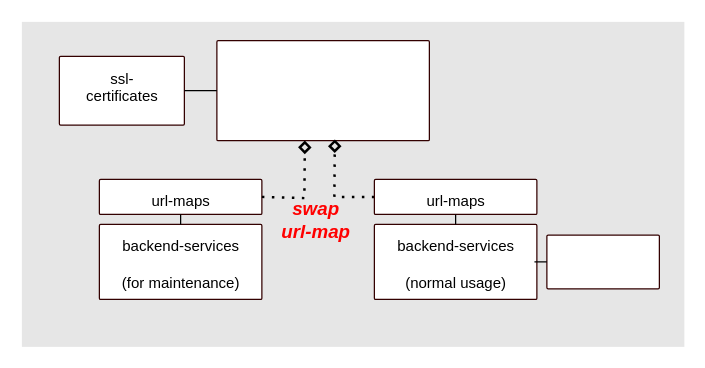
Image size: 705x368. Some labels were removed from this diagram. Each missing label, with the centre of its shape:
"health- checks" belongs at point 602,261.
"target-https-proxies global external HTTPS load balancer" belongs at point 322,90.
